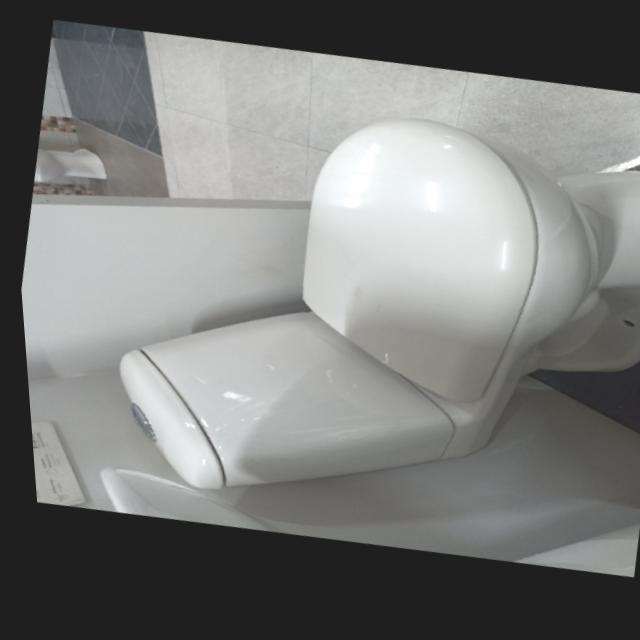toilet: (73, 60, 640, 580)
